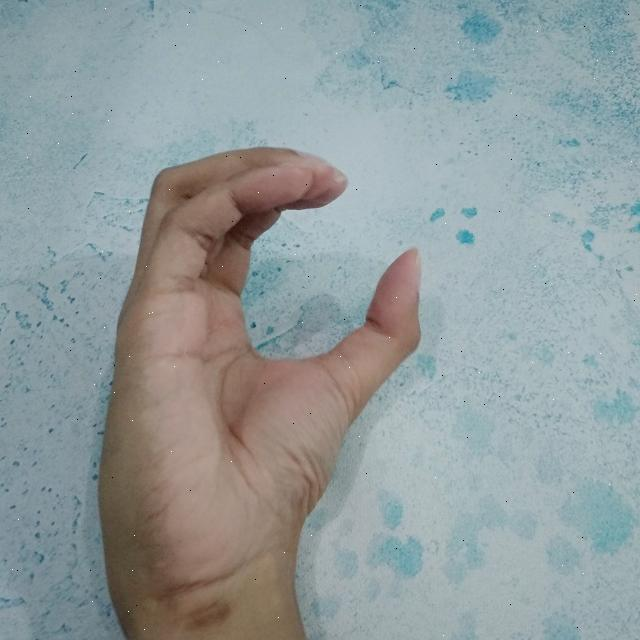C: (87, 144, 428, 640)
